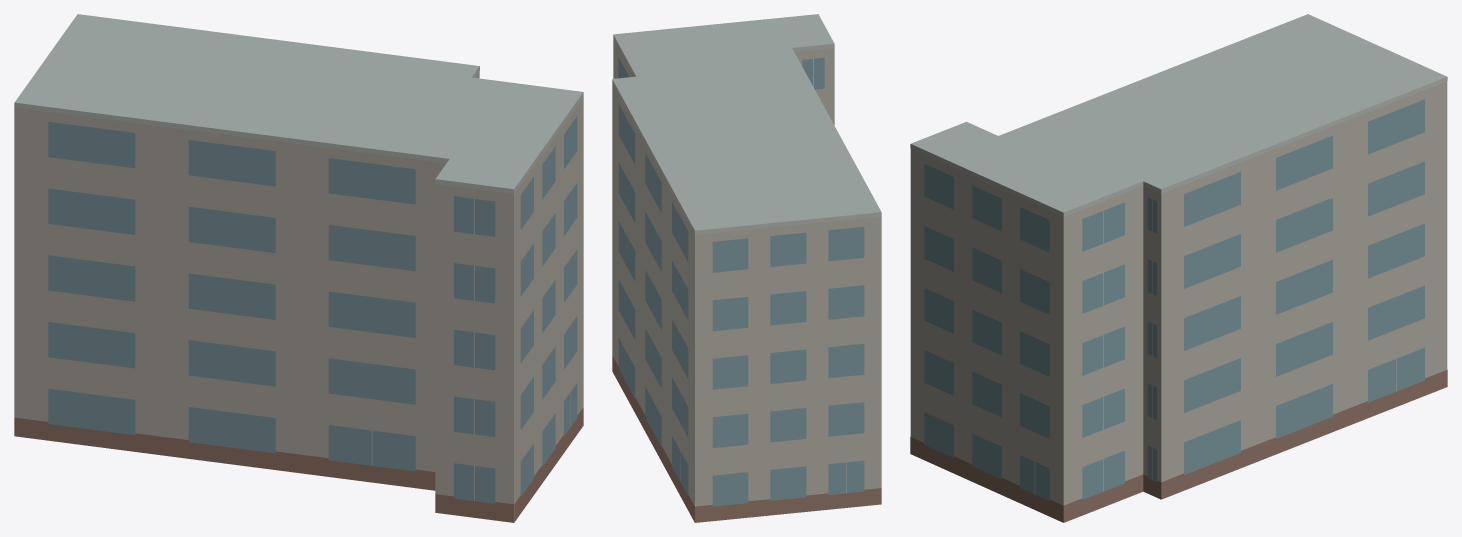
The model's file is survey-upis-32578249.glb.
3 renders of one model, left to right at view 1: azimuth 30°, elevation 25°; view 2: azimuth 150°, elevation 25°; view 3: azimuth 270°, elevation 25°, orthographic. The views are drawn at different scales.
Parts seen in each view (by area): view 1: survey-upis-32578249.tmp; view 2: survey-upis-32578249.tmp; view 3: survey-upis-32578249.tmp.
Boxes of the visible parts, x1,y1,x2,y2 form: survey-upis-32578249.tmp: [14, 14, 583, 522]; survey-upis-32578249.tmp: [612, 14, 881, 522]; survey-upis-32578249.tmp: [910, 14, 1447, 522].
Bounding box in the file's own units: 23.35 × 17 × 26.67.
